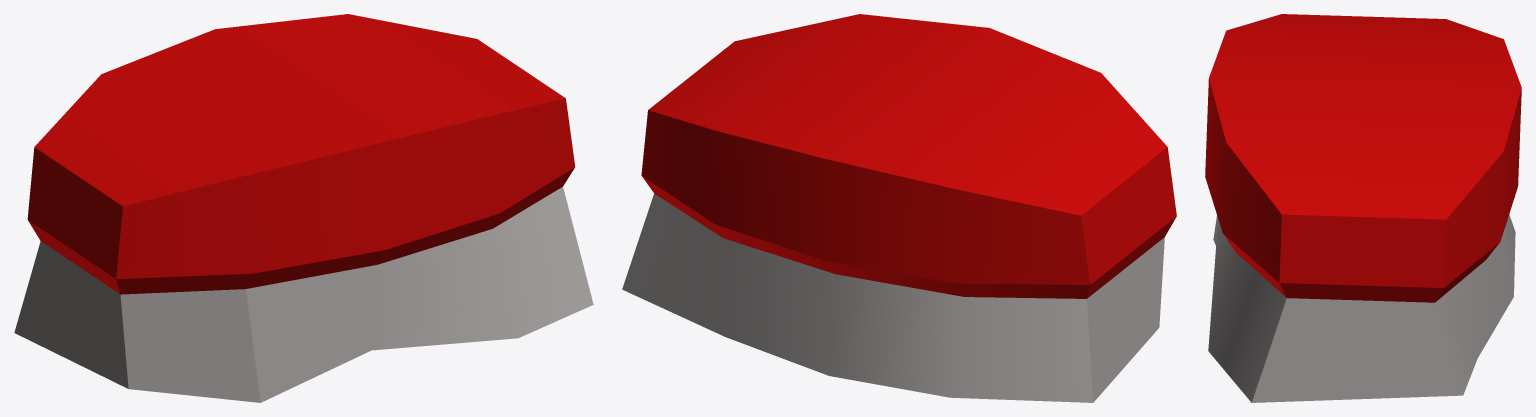
The model's file is firca.fbx.
3 renders of one model, left to right at view 1: azimuth 30°, elevation 25°; view 2: azimuth 150°, elevation 25°; view 3: azimuth 270°, elevation 25°, orthographic. The views are drawn at different scales.
Parts seen in each view (by area): view 1: default; view 2: default; view 3: default.
Part boxes in pixels (x1=…): default: x1=14, y1=14, x2=593, y2=402; default: x1=622, y1=14, x2=1176, y2=402; default: x1=1205, y1=14, x2=1521, y2=402.
Size of the model in its own units: 15.71 by 7.58 by 9.74.
